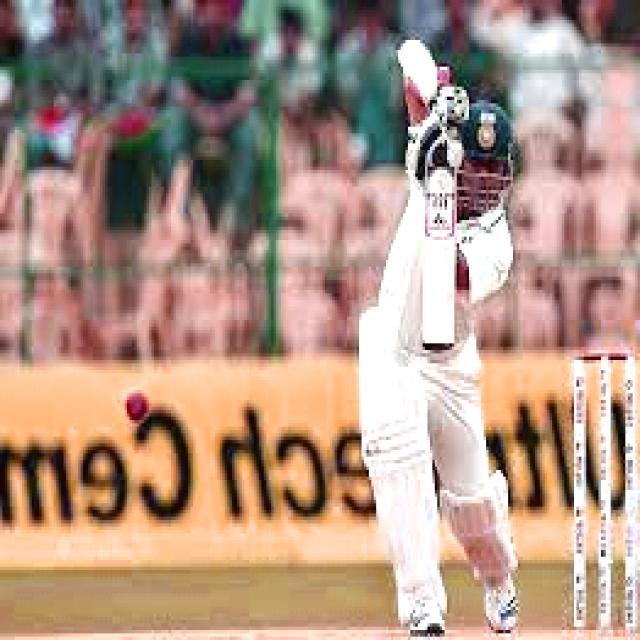toe: (414, 303, 457, 357)
